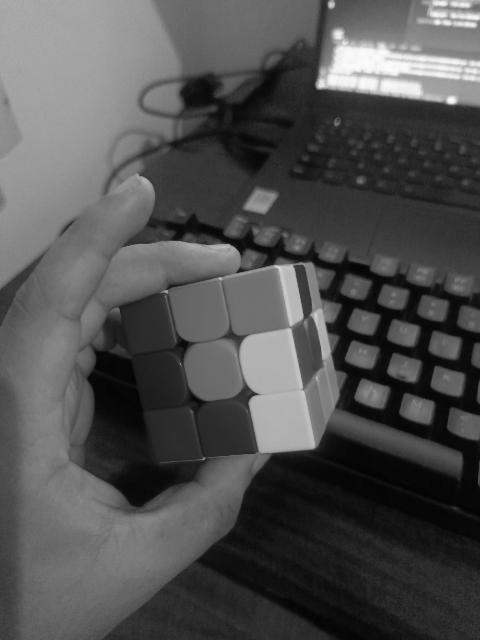rubik: (118, 260, 342, 464)
